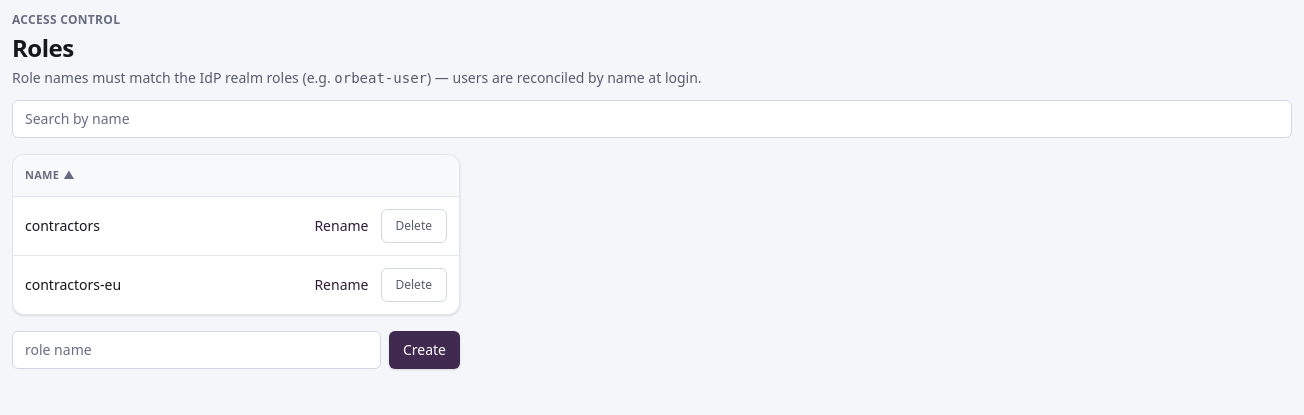
Test: a failing delete surfaces its error, not a silent no-op
The image size is (1304, 415).
Check: the text "contractors" is shown, box [25, 216, 100, 236]
Click the button with aria-label "Delete contractors" at (414, 226), box [380, 208, 447, 242]
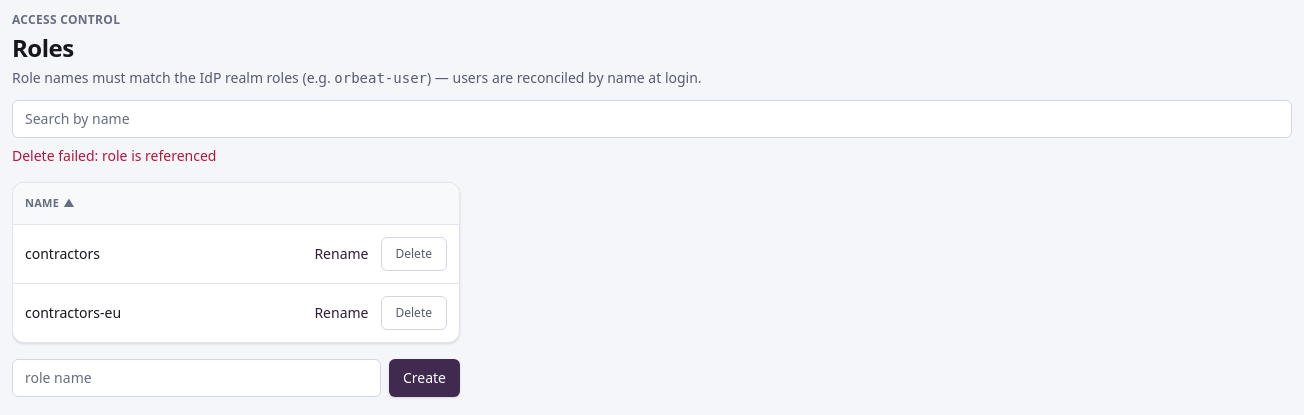
Check: the text "Delete failed: role is referenced" is shown, box [12, 146, 216, 165]
